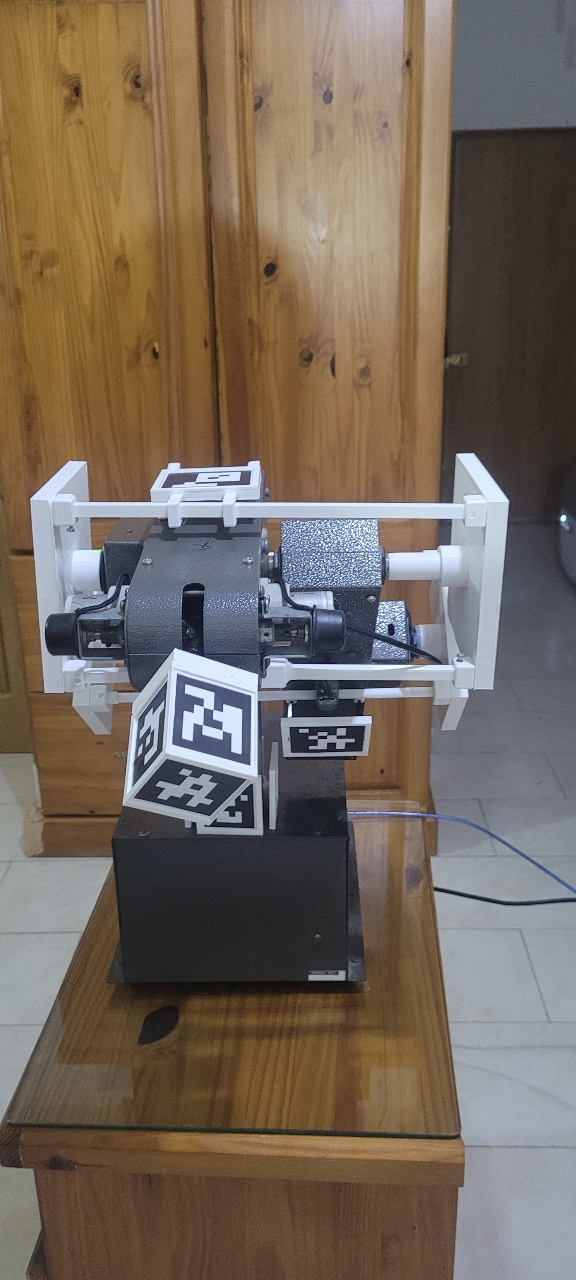Robot: (26, 344, 562, 1235)
